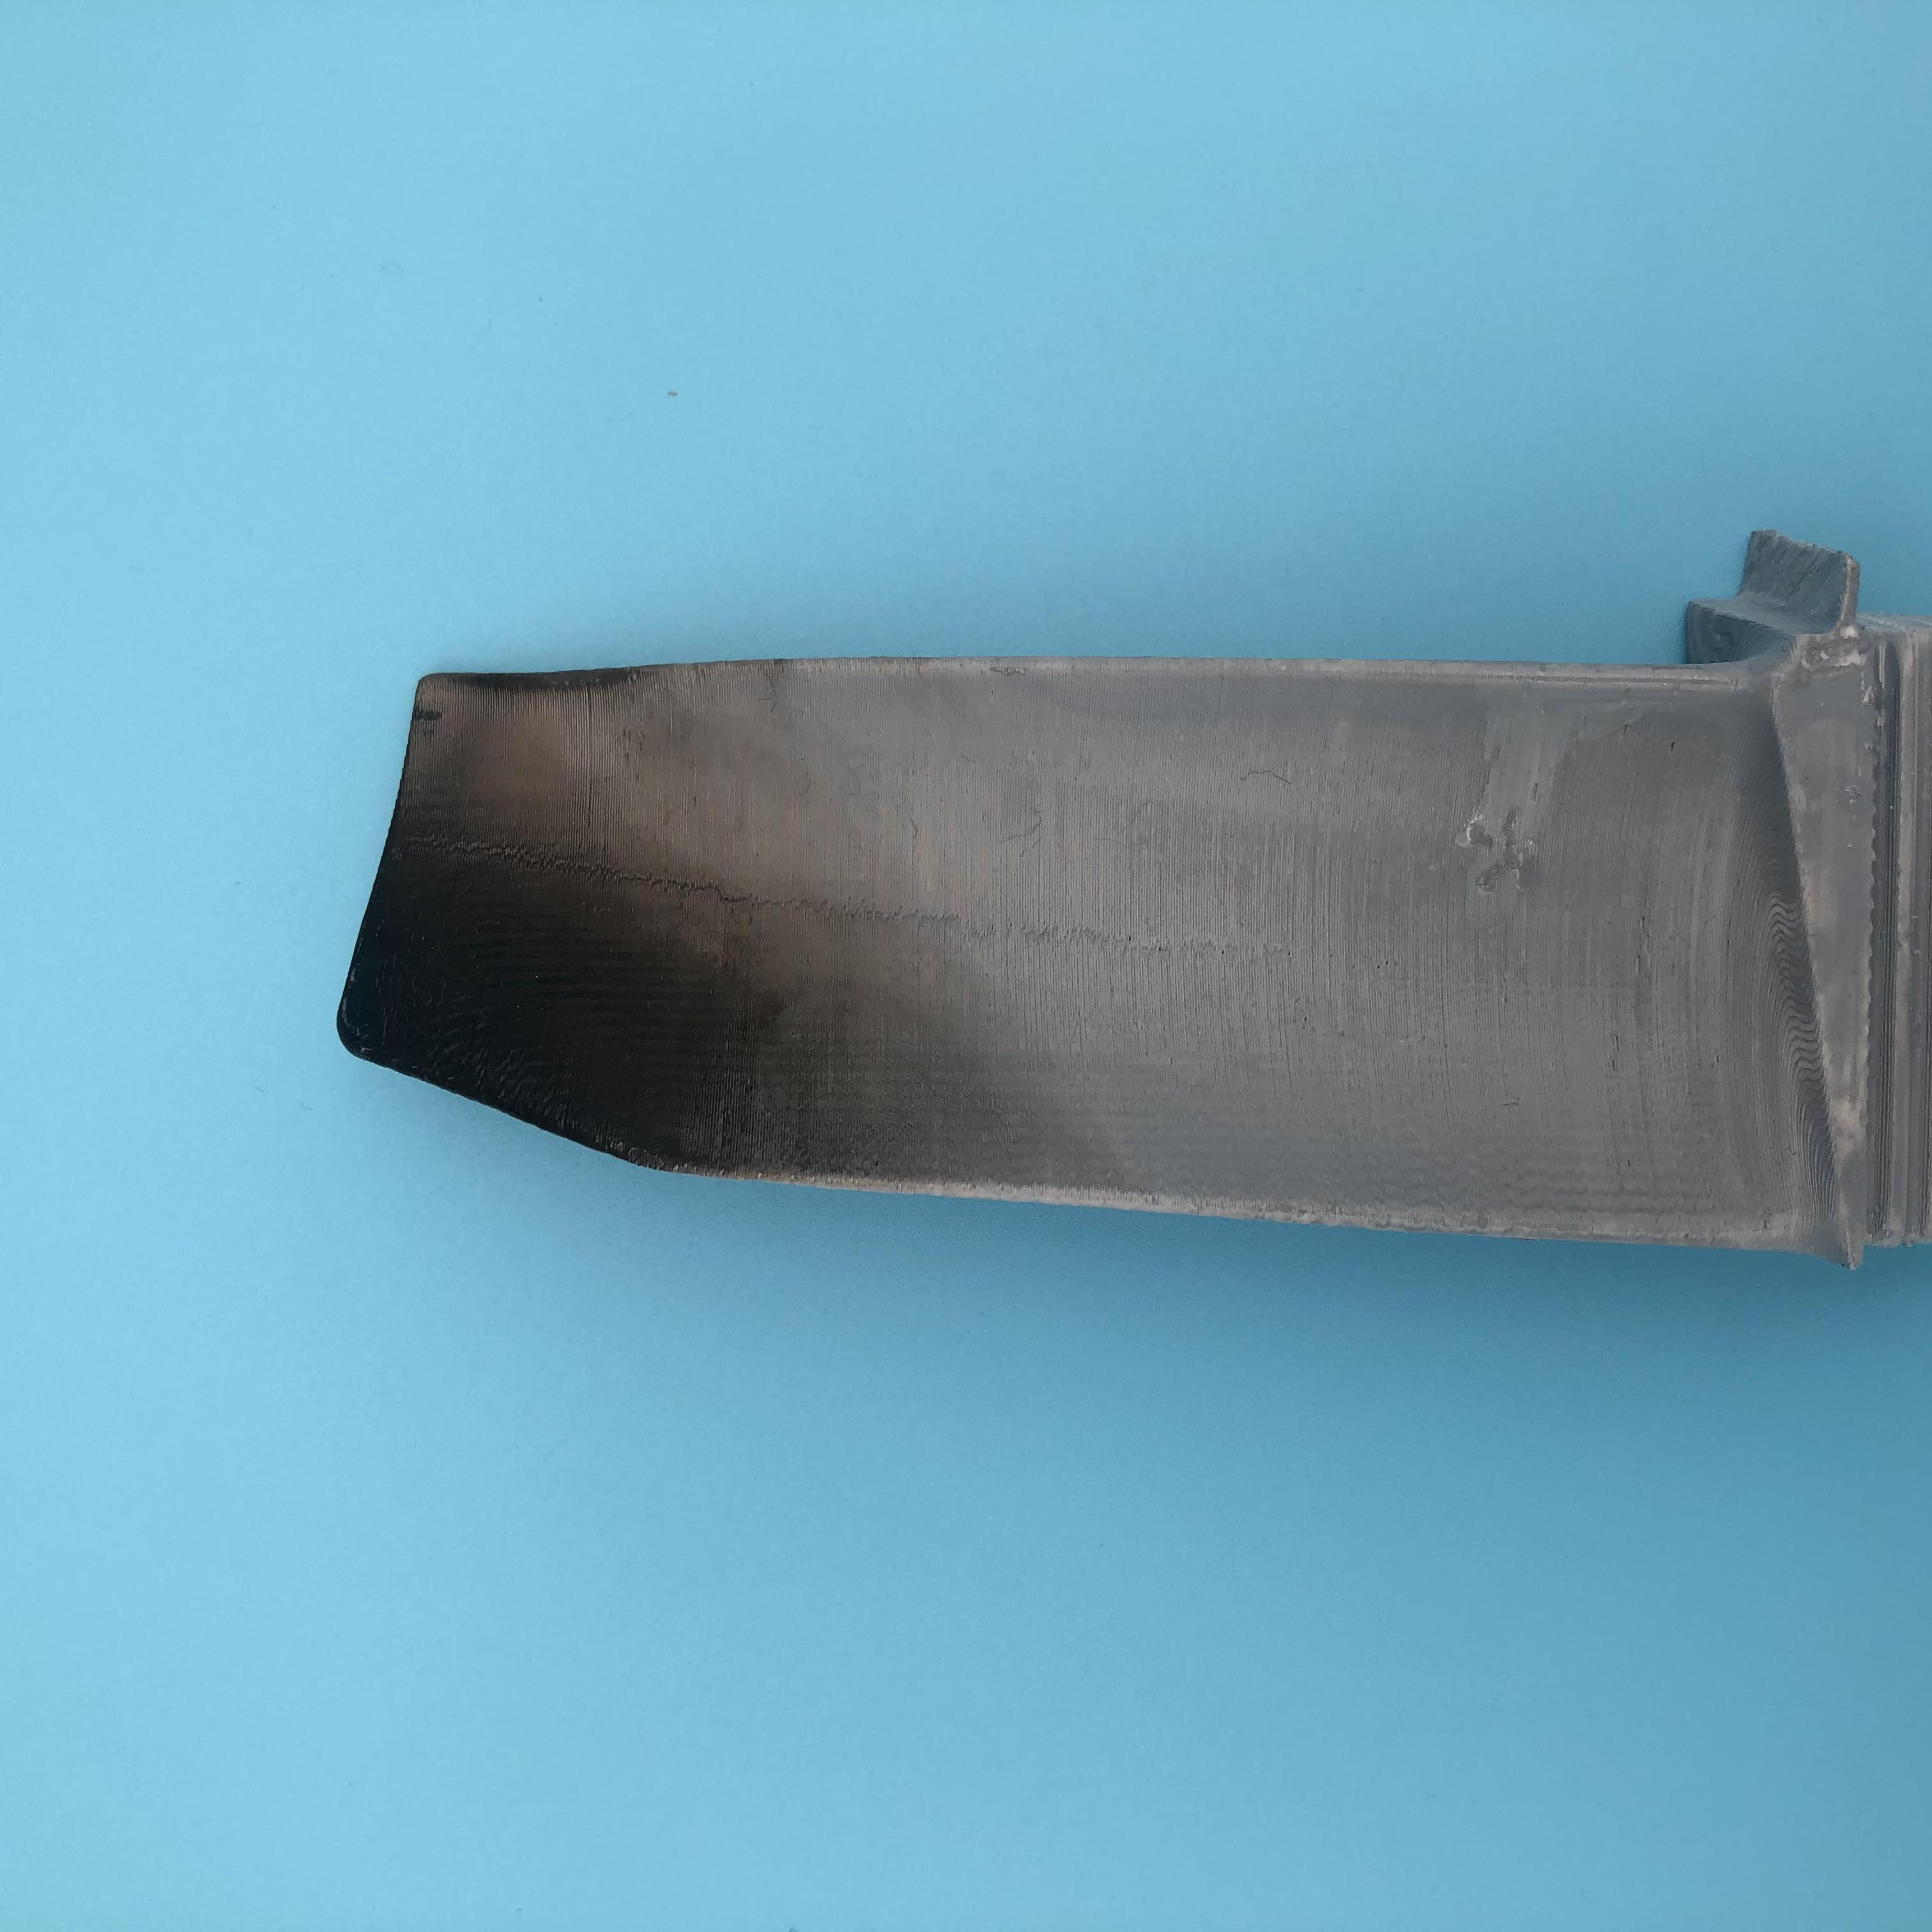ablation: (386, 704, 1012, 1148)
